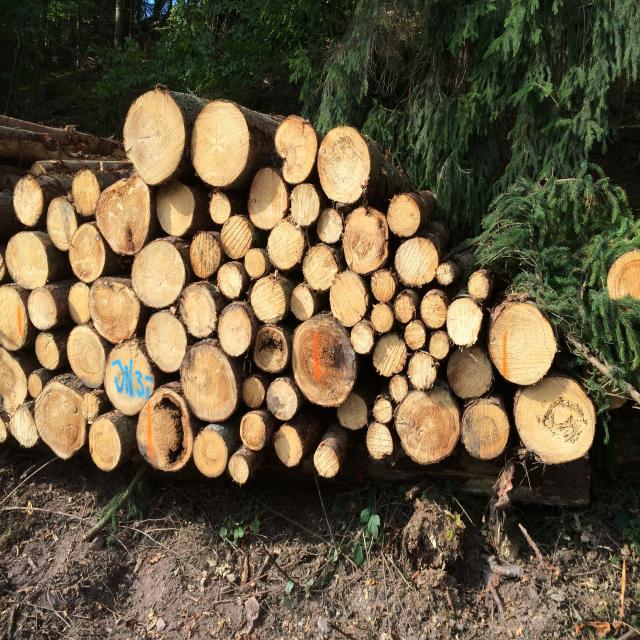wood-log: (516, 376, 597, 464), (294, 312, 360, 405), (123, 90, 186, 184), (489, 306, 555, 387), (394, 389, 460, 466), (193, 102, 252, 188), (181, 343, 240, 424), (97, 176, 153, 258), (36, 374, 89, 459), (318, 127, 371, 204), (105, 341, 158, 418), (131, 239, 188, 308), (92, 276, 144, 342), (137, 402, 186, 472), (341, 206, 388, 273), (462, 398, 510, 461), (274, 118, 317, 186), (144, 312, 189, 375), (248, 170, 291, 233), (5, 230, 51, 288), (445, 344, 493, 399), (67, 326, 108, 388), (328, 270, 371, 326), (70, 222, 110, 282), (176, 282, 218, 339), (395, 238, 441, 288), (214, 304, 254, 360), (302, 245, 346, 293), (158, 182, 196, 237), (0, 287, 31, 354), (266, 220, 307, 270), (0, 347, 28, 418), (89, 416, 124, 472), (608, 246, 640, 307), (250, 276, 290, 324), (446, 297, 484, 347), (48, 196, 82, 251), (193, 428, 228, 478), (253, 326, 288, 376), (372, 332, 409, 377), (221, 214, 256, 259), (190, 230, 224, 276), (13, 178, 44, 228), (266, 376, 300, 421), (25, 286, 58, 331), (388, 194, 422, 237), (290, 184, 322, 228), (73, 170, 102, 217), (407, 350, 439, 390), (274, 422, 302, 466), (338, 393, 371, 430), (420, 290, 449, 329), (239, 411, 268, 450), (218, 262, 248, 299), (318, 207, 348, 244), (366, 424, 396, 460), (68, 283, 92, 326), (34, 332, 61, 370), (371, 268, 399, 303), (290, 284, 314, 322), (349, 319, 374, 354), (0, 384, 14, 446), (242, 374, 266, 409), (12, 412, 36, 447), (314, 445, 339, 477), (405, 318, 428, 352), (468, 270, 492, 302), (243, 250, 268, 280), (370, 304, 394, 333), (431, 332, 453, 363), (209, 194, 231, 225), (372, 396, 395, 425), (28, 366, 48, 398), (394, 293, 414, 324), (230, 452, 250, 482), (389, 374, 408, 404), (438, 265, 459, 287), (0, 416, 8, 444), (0, 253, 6, 285)
